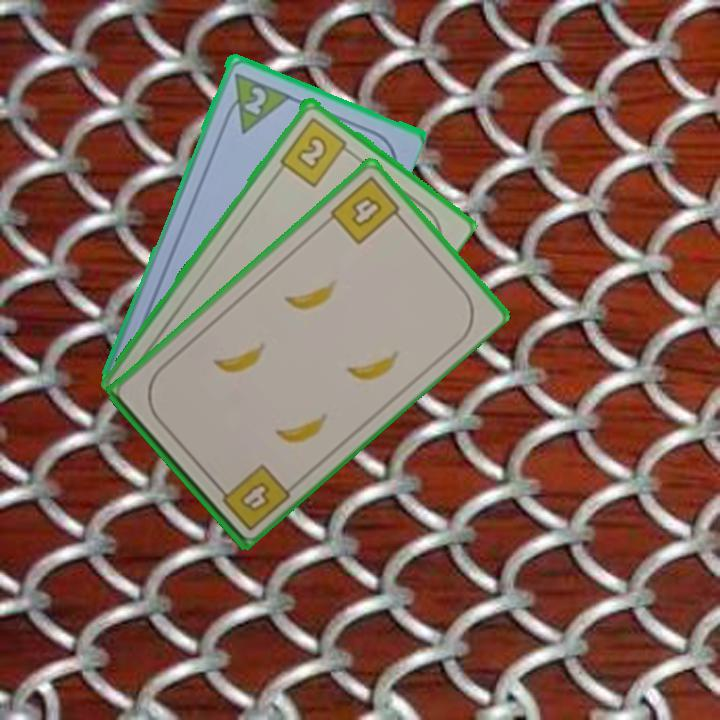2b: (276, 113, 356, 189)
2p: (218, 68, 291, 136)
4b: (326, 172, 407, 248), (211, 460, 293, 534)
